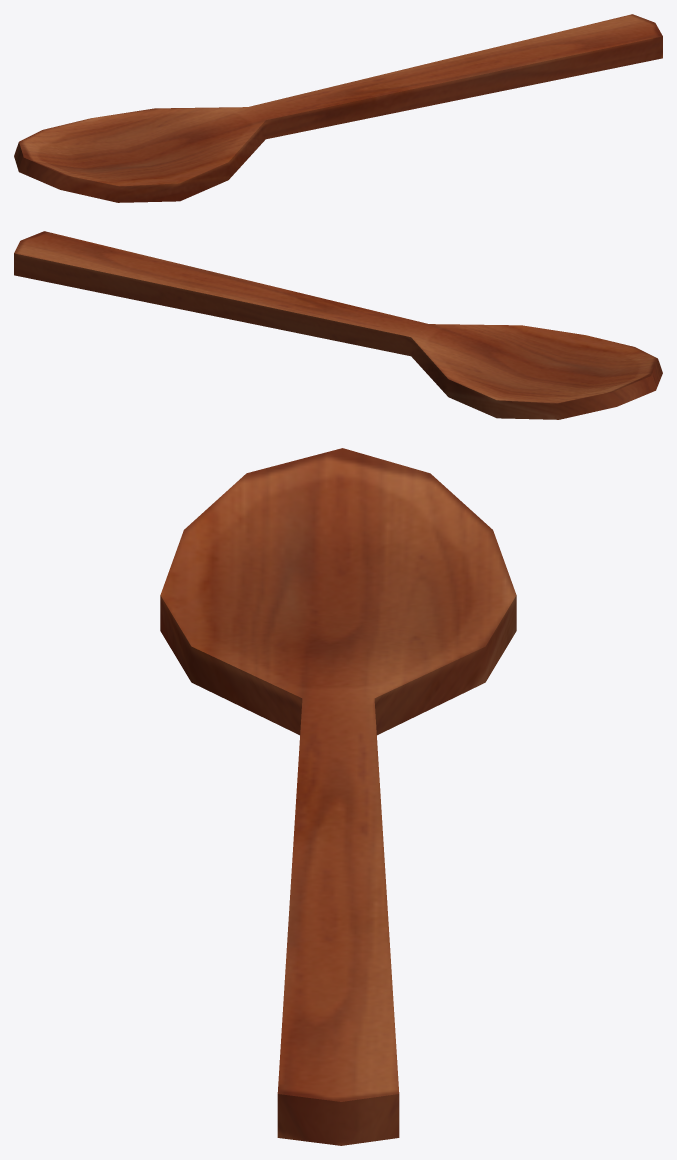
The model's file is Wooden_Spoon_01.fbx.
3 renders of one model, top to bottom at view 1: azimuth 30°, elevation 25°; view 2: azimuth 150°, elevation 25°; view 3: azimuth 270°, elevation 25°, orthographic. The views are drawn at different scales.
Visible parts, largest first — view 1: Wooden_Spoon_02; view 2: Wooden_Spoon_02; view 3: Wooden_Spoon_02.
Boxes of the visible parts, <box> form: Wooden_Spoon_02: <box>14,14,662,202</box>; Wooden_Spoon_02: <box>14,231,662,419</box>; Wooden_Spoon_02: <box>160,448,516,1145</box>.
Size of the model in its own units: 100 by 7.04 by 24.3.
